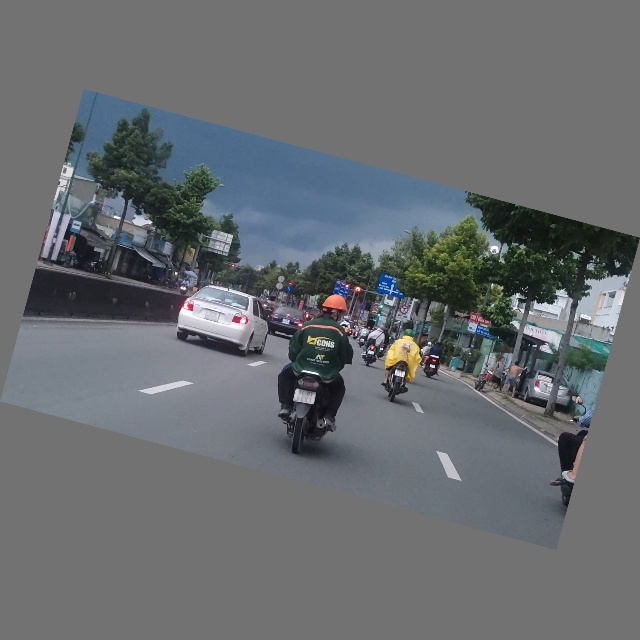P.137: (399, 305, 409, 315)
R.302a: (286, 287, 292, 293)
R.415a: (333, 284, 350, 299)
